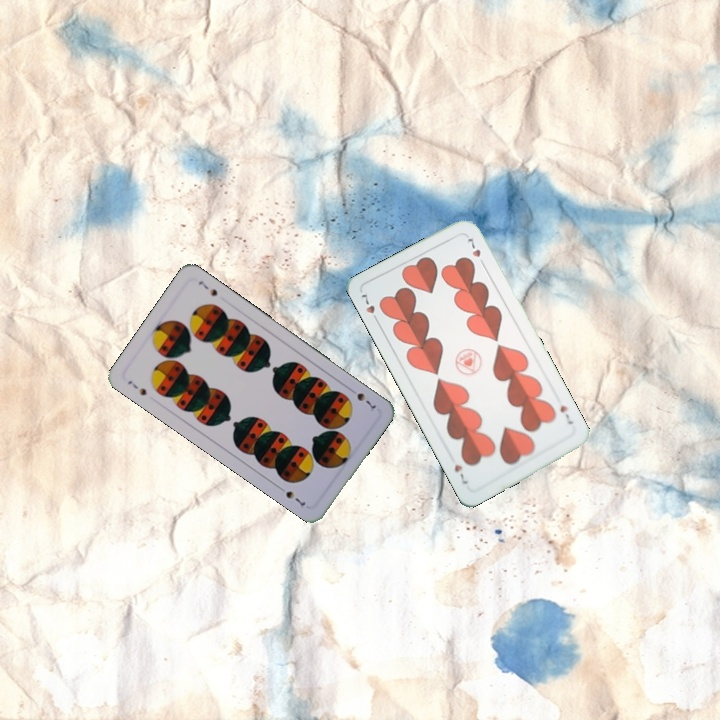H7: (357, 290, 382, 326), (556, 401, 575, 427)
S7: (345, 384, 379, 412), (123, 376, 149, 398)
